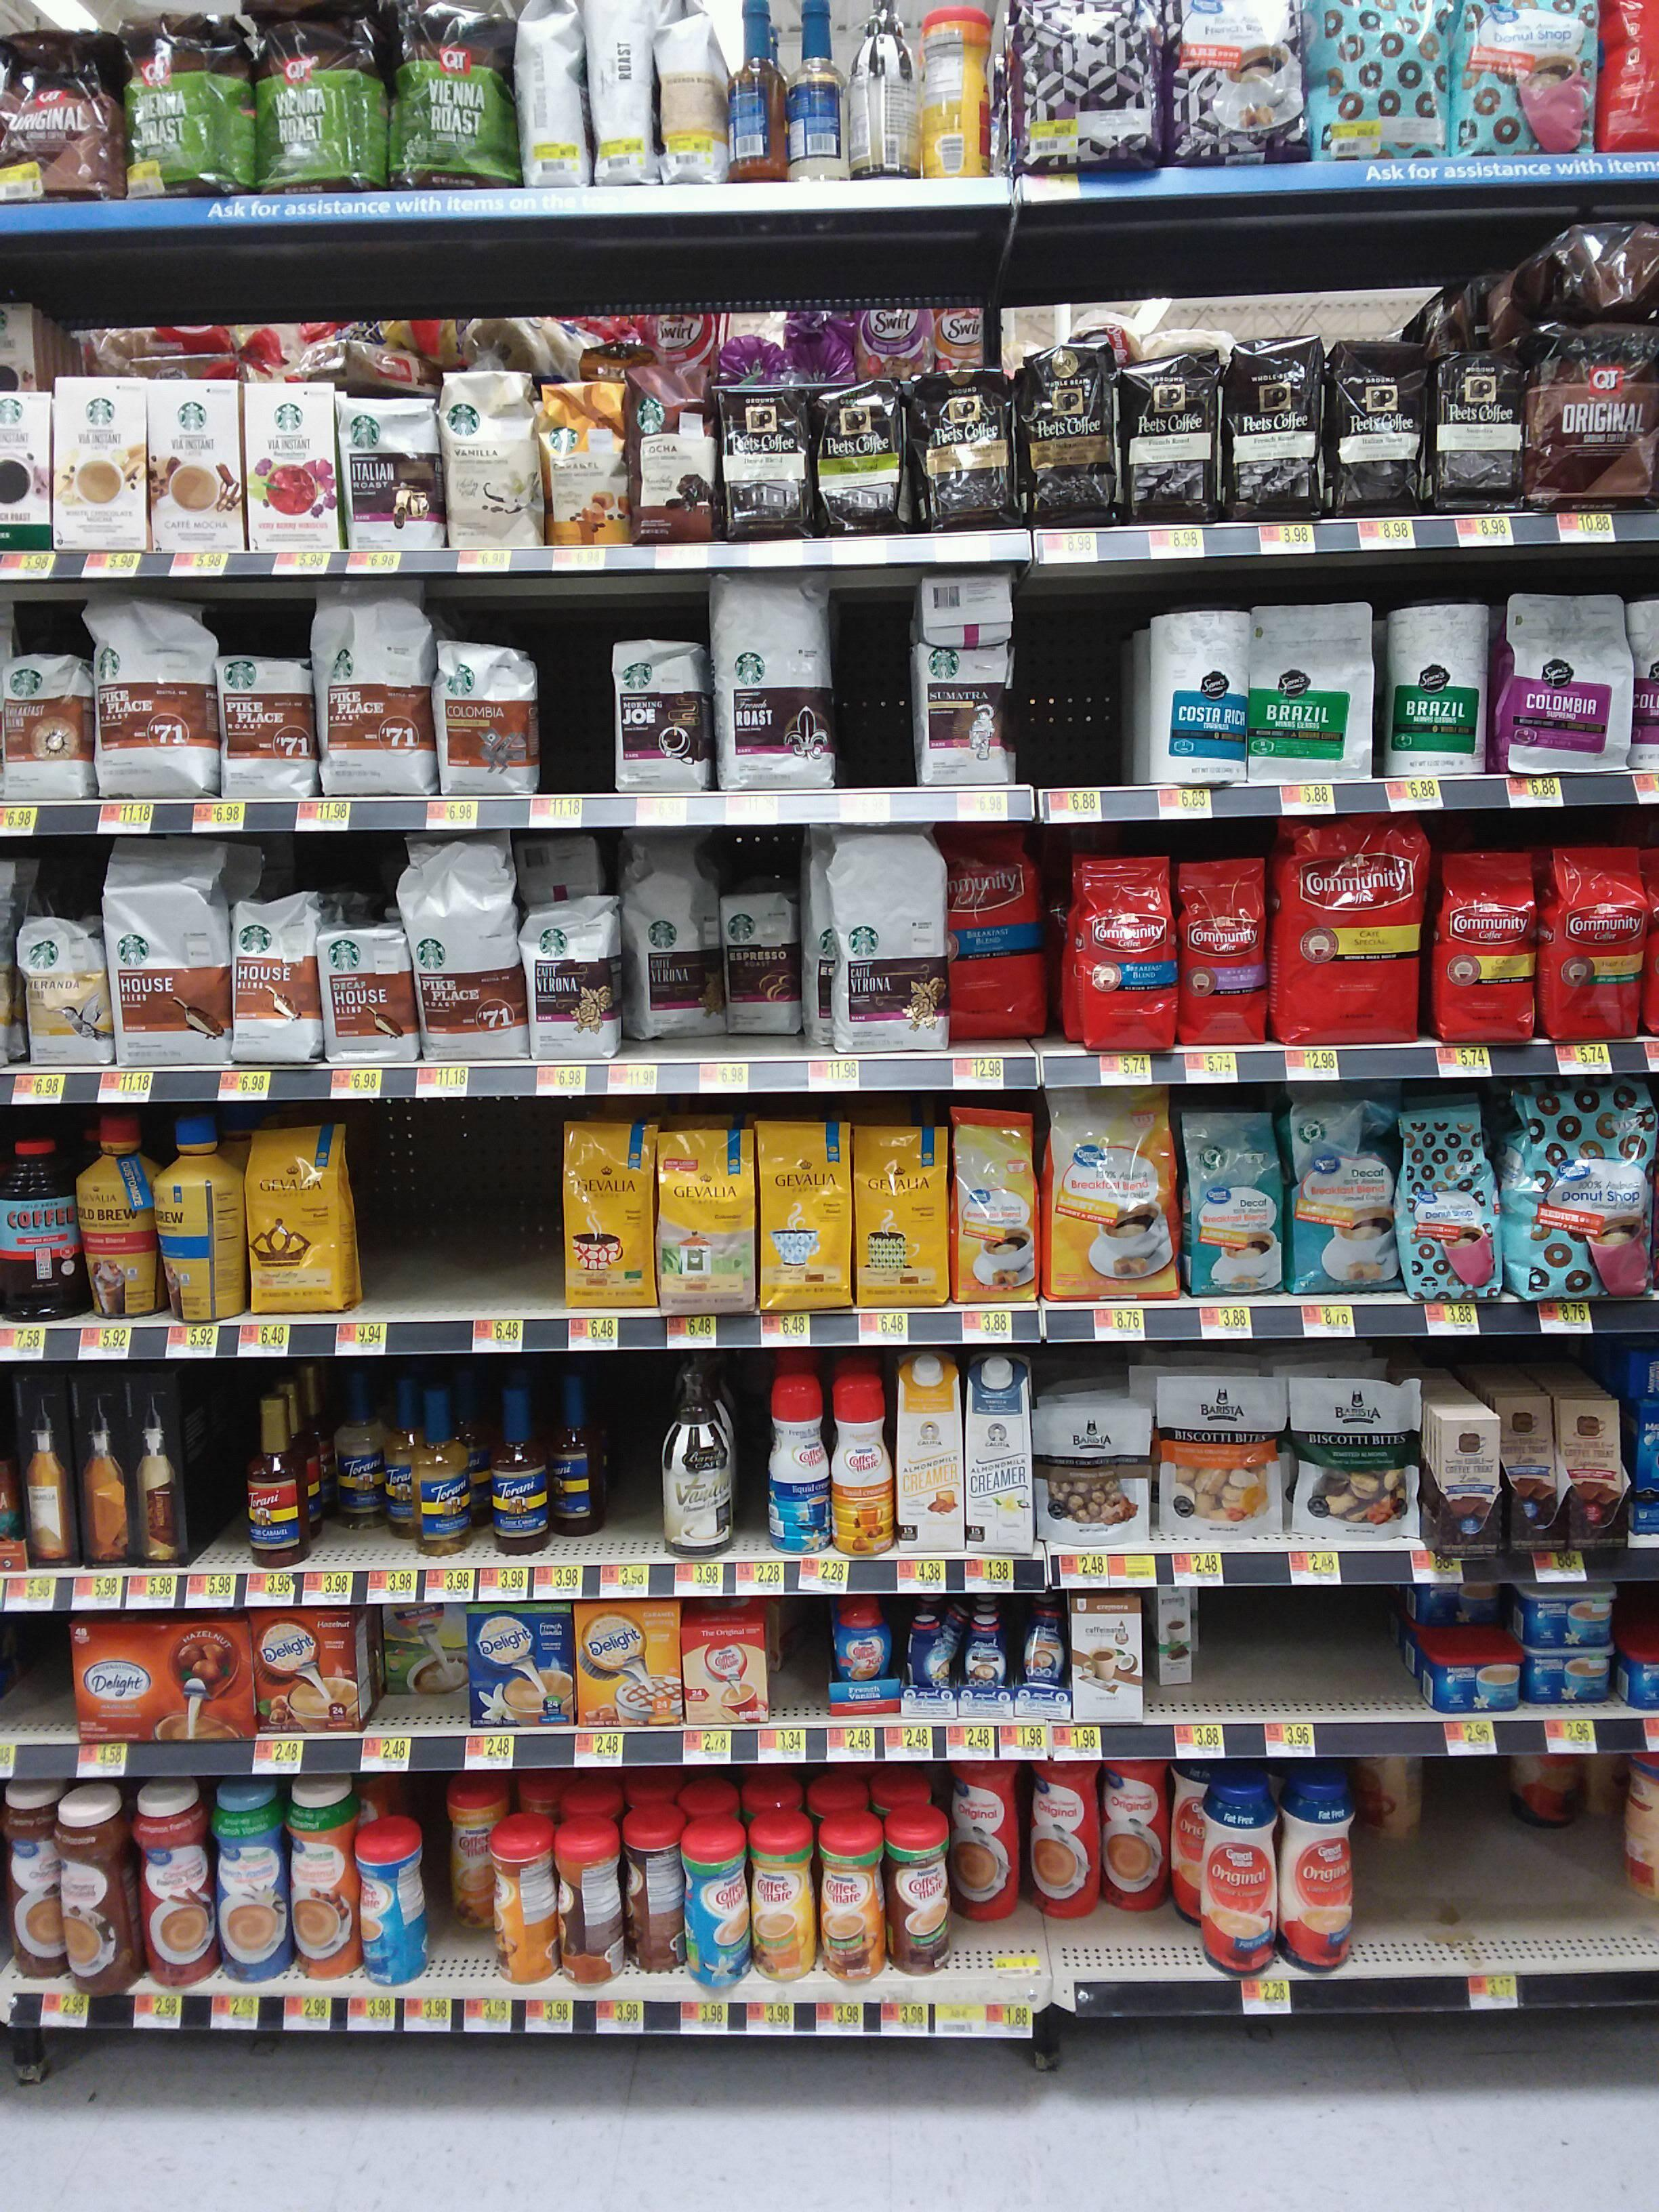empty: (1530, 1773, 1628, 1965), (1018, 617, 1129, 782), (1434, 1770, 1530, 1961), (831, 599, 915, 798), (1354, 1770, 1438, 1966), (462, 1139, 547, 1312), (359, 1143, 443, 1315), (530, 625, 613, 791), (1204, 1588, 1305, 1721), (1300, 1587, 1399, 1719), (594, 1385, 660, 1555), (185, 1399, 251, 1569), (9, 1625, 68, 1743)
